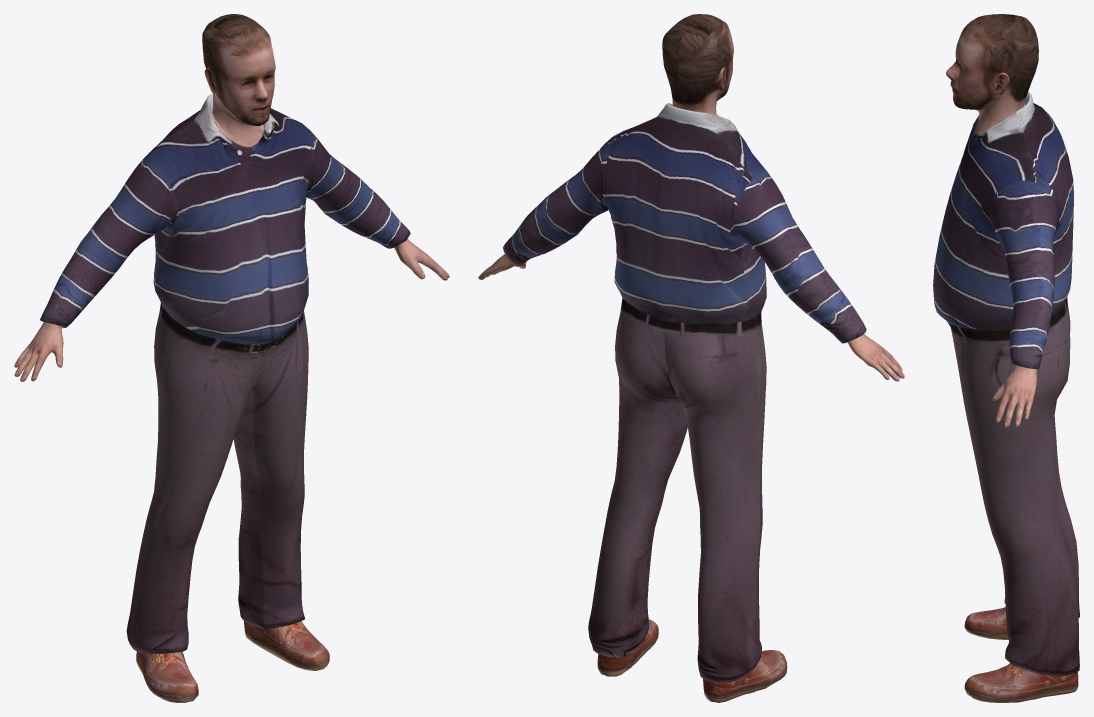
The model's file is Casual_Man.obj.
3 views of the same model, side by side, from view 1: azimuth 30°, elevation 25°; view 2: azimuth 150°, elevation 25°; view 3: azimuth 270°, elevation 25° (orthographic).
Parts seen in each view (by area): view 1: CasualMan; view 2: CasualMan; view 3: CasualMan.
Boxes of the visible parts, left/top/right/bottom form: CasualMan: left=14, top=14, right=449, bottom=702; CasualMan: left=478, top=14, right=904, bottom=702; CasualMan: left=933, top=14, right=1079, bottom=702.
Size of the model in its own units: 2.53 by 3.7 by 0.7596.
